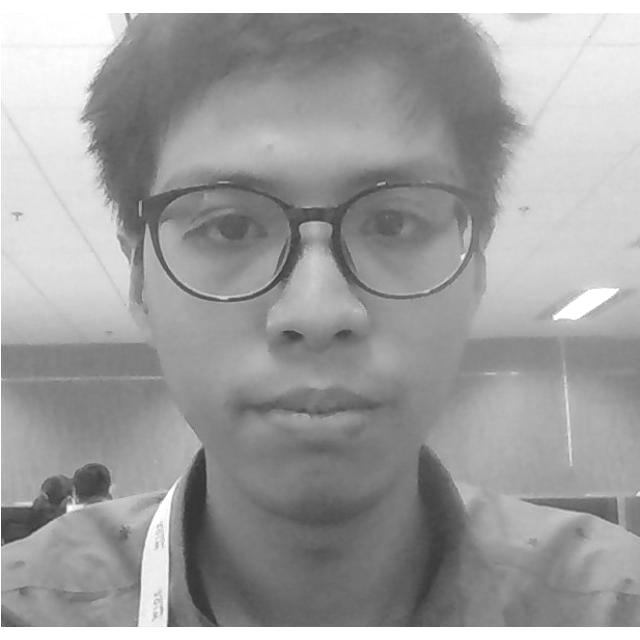real: (148, 82, 477, 507)
